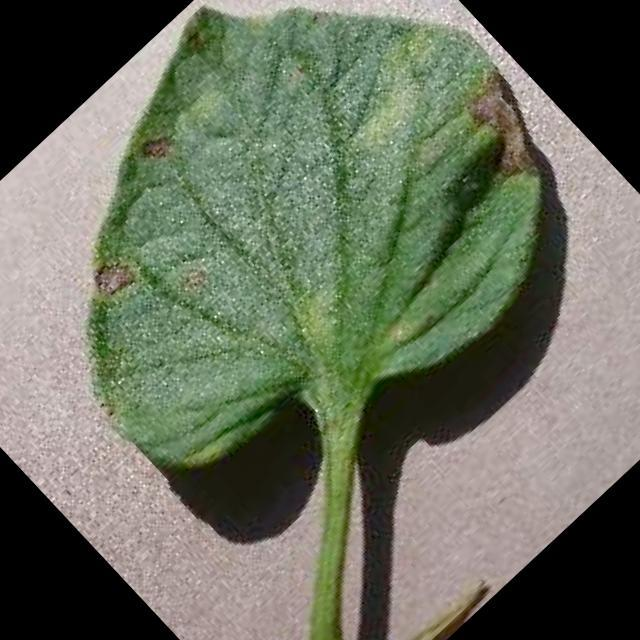Tomato Early blight leaf: (0, 0, 627, 559)
